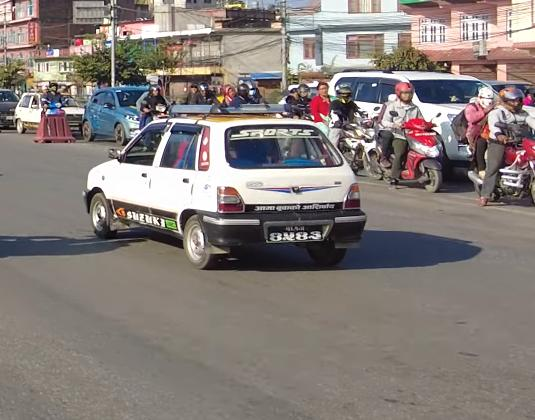bike: (468, 119, 535, 209)
car: (83, 86, 172, 148)
scooter: (369, 107, 454, 198)
taxi: (80, 104, 369, 279)
